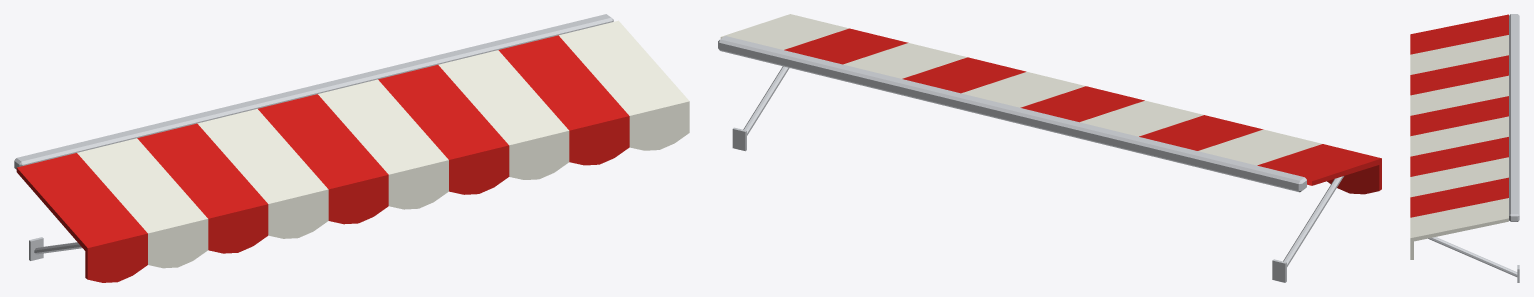
Rendered from toldo_frente_chico.glb.
The picture shows the model from 3 angles, left to right: view 1: azimuth 30°, elevation 25°; view 2: azimuth 150°, elevation 25°; view 3: azimuth 270°, elevation 25°; orthographic projection. The views are drawn at different scales.
Visible parts, largest first — view 1: pieza_tramo, pieza_punta_izq, pieza_punta_der; view 2: pieza_tramo, pieza_punta_izq, pieza_punta_der; view 3: pieza_tramo, pieza_punta_der, pieza_punta_izq.
Part boxes in pixels (x1,y1,x2,y2): pieza_tramo: [131, 42, 569, 253]; pieza_punta_izq: [14, 130, 208, 282]; pieza_punta_der: [492, 14, 689, 165]; pieza_tramo: [831, 43, 1263, 164]; pieza_punta_izq: [1186, 129, 1381, 282]; pieza_punta_der: [718, 14, 908, 151]; pieza_tramo: [1410, 52, 1519, 197]; pieza_punta_der: [1410, 175, 1519, 282]; pieza_punta_izq: [1410, 14, 1519, 74].
Size of the model in its own units: 1.6 by 0.27 by 0.362.
